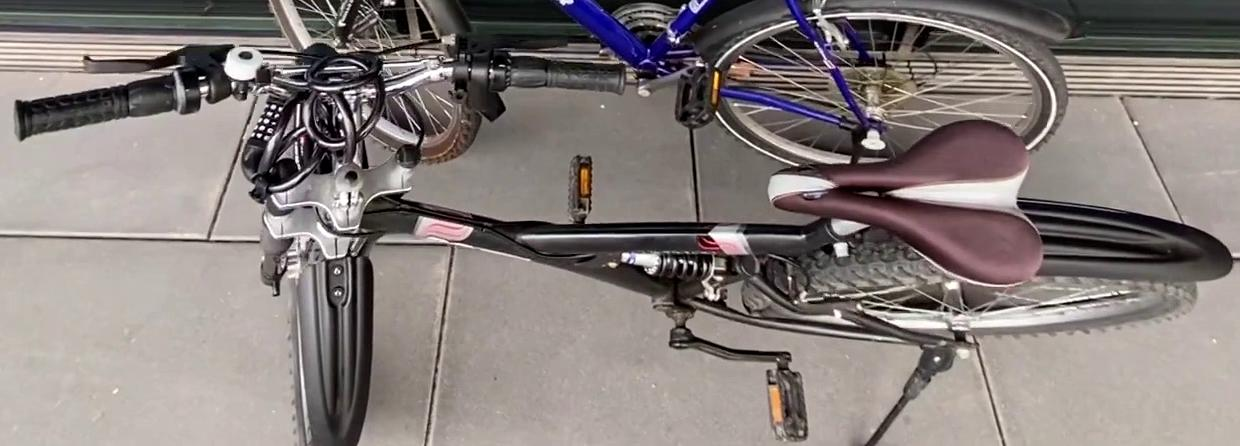Bicycle: (1, 0, 1240, 446)
